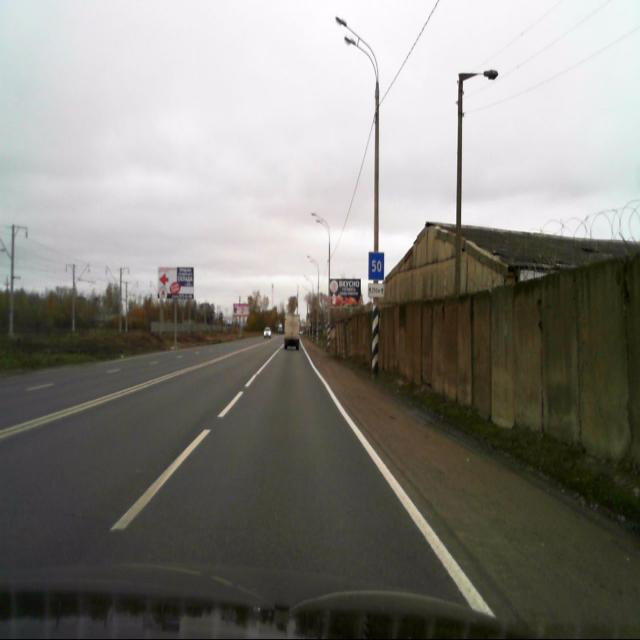road sign: (368, 252, 384, 280), (368, 283, 384, 298)
